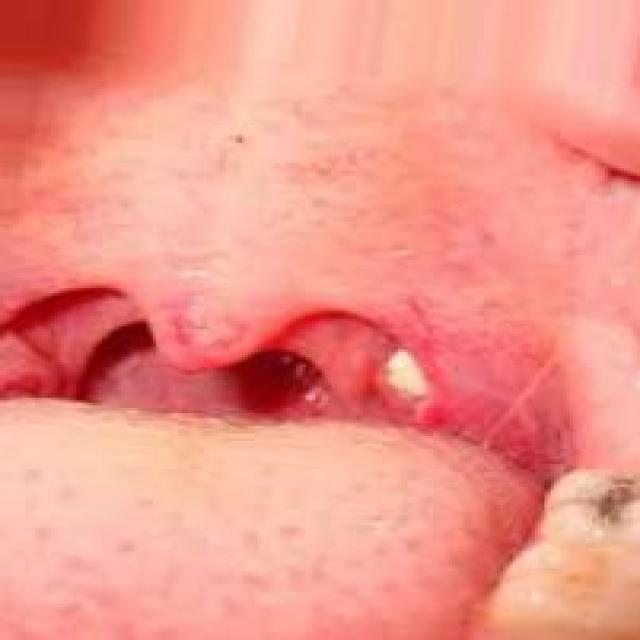caries: (550, 453, 640, 554)
